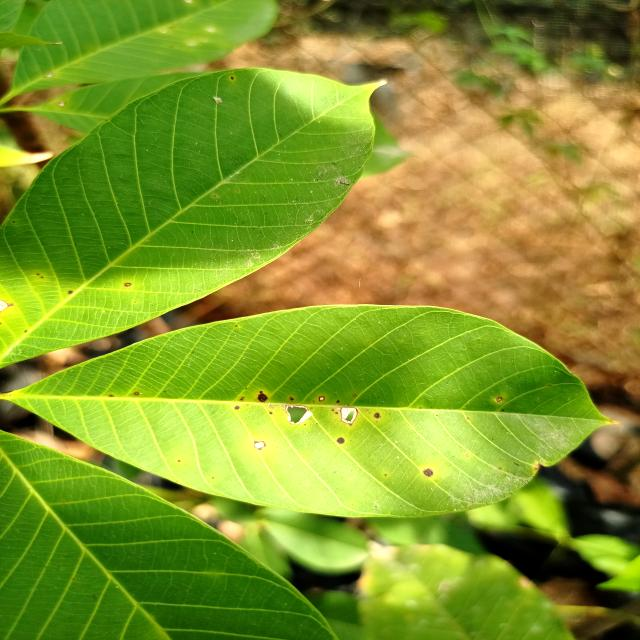Colletotrichum: (340, 407, 358, 425), (253, 440, 266, 450), (258, 393, 268, 402), (423, 468, 433, 477), (337, 437, 345, 444), (319, 396, 325, 402), (374, 412, 380, 418), (496, 397, 502, 402), (125, 283, 132, 287), (234, 406, 240, 410), (134, 392, 140, 395), (68, 290, 72, 294), (353, 394, 357, 397), (336, 400, 340, 403)
